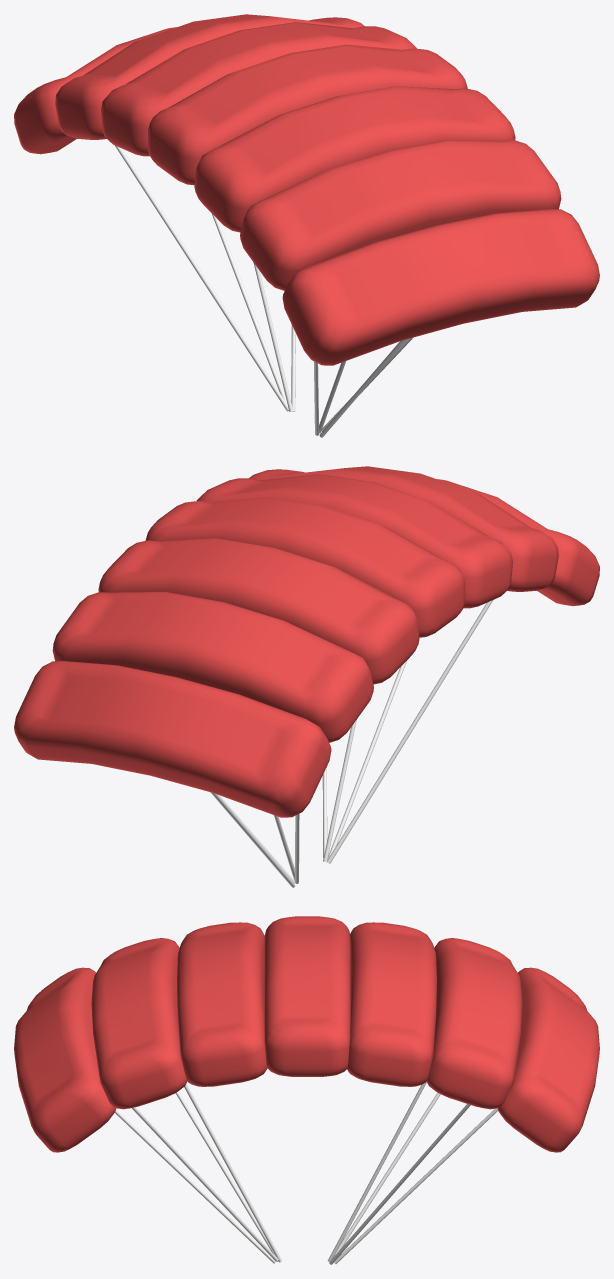
The model's file is 3D_Model_Parachute_V4.fbx.
3 renders of one model, top to bottom at view 1: azimuth 30°, elevation 25°; view 2: azimuth 150°, elevation 25°; view 3: azimuth 270°, elevation 25°, orthographic. The views are drawn at different scales.
Parts seen in each view (by area): view 1: polySurface54; view 2: polySurface54; view 3: polySurface54.
Part boxes in pixels (box(x1,y1,x2,y2)): polySurface54: box(14, 14, 599, 437); polySurface54: box(14, 466, 599, 887); polySurface54: box(14, 916, 599, 1264).
Bounding box in the file's own units: 8.58 × 10.18 × 17.15.
